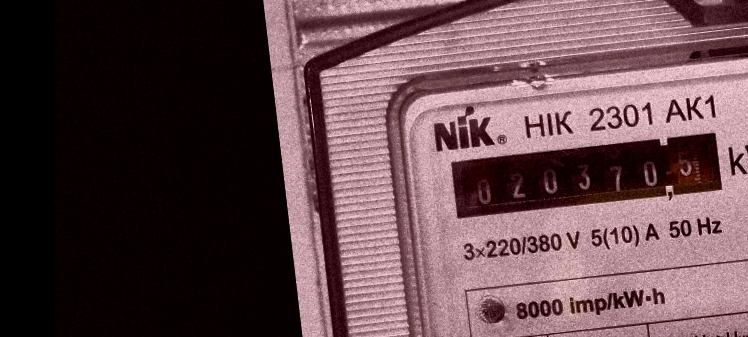0: (640, 157, 661, 188), (474, 174, 494, 205), (541, 164, 559, 194)
2: (507, 168, 529, 201)
3: (574, 159, 593, 191)
5: (675, 145, 696, 178)
7: (607, 162, 626, 193)
screen: (443, 123, 732, 230)
